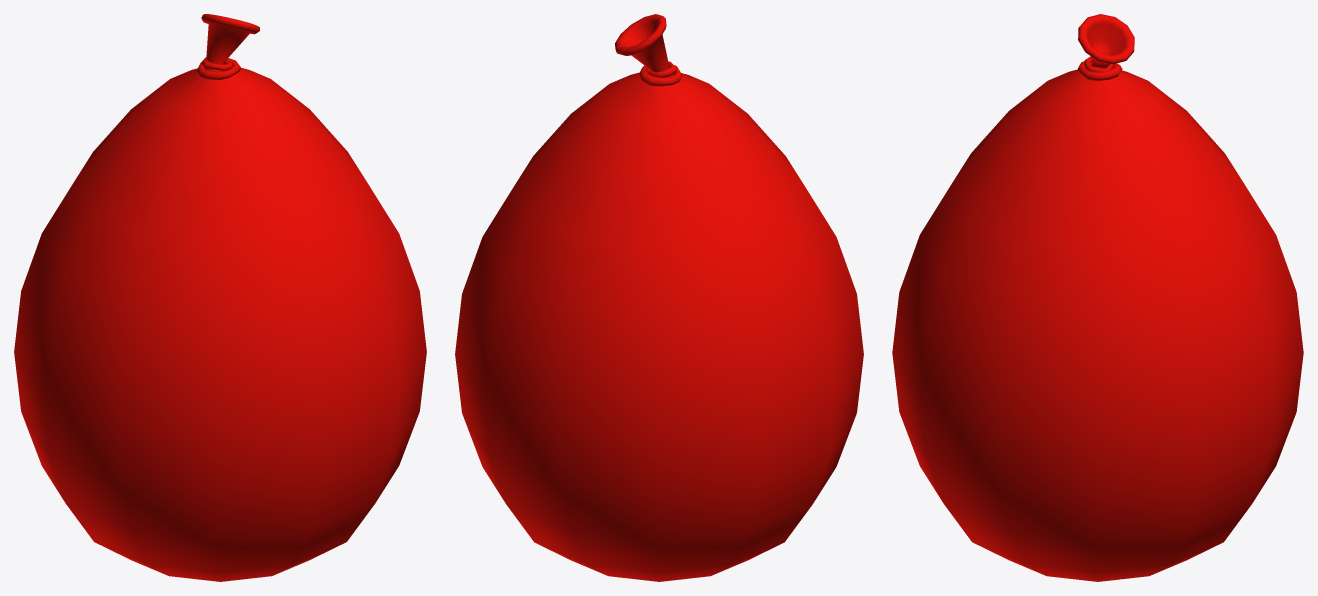
The model's file is WaterBalloon.fbx.
3 views of the same model, side by side, from view 1: azimuth 30°, elevation 25°; view 2: azimuth 150°, elevation 25°; view 3: azimuth 270°, elevation 25° (orthographic).
Parts seen in each view (by area): view 1: WaterBalloon; view 2: WaterBalloon; view 3: WaterBalloon.
Part boxes in pixels (left/top/right/bottom): WaterBalloon: left=14, top=14, right=426, bottom=581; WaterBalloon: left=455, top=14, right=863, bottom=581; WaterBalloon: left=892, top=14, right=1303, bottom=581.
Size of the model in its own units: 146 by 210 by 146.
